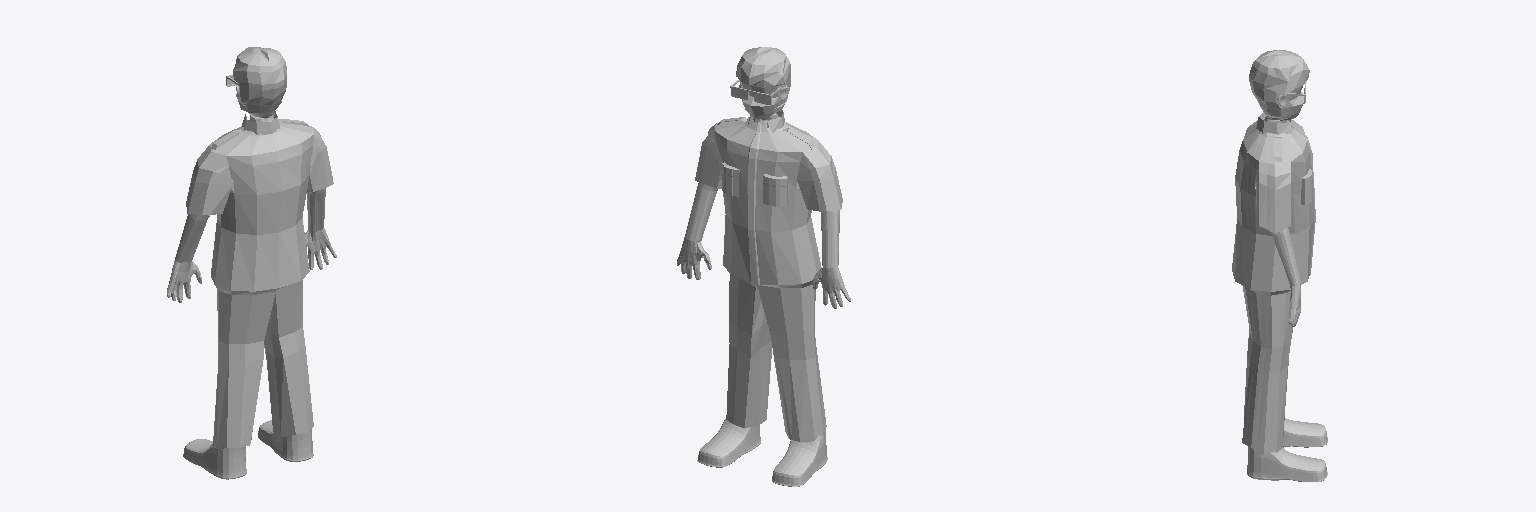
Rendered from guruwith hand.obj.
The picture shows the model from 3 angles: view 1: azimuth 30°, elevation 25°; view 2: azimuth 150°, elevation 25°; view 3: azimuth 270°, elevation 25°; orthographic projection.
Parts seen in each view (by area): view 1: Cube.001_Cube.003, Cube.002, Cube.003_Cube.004; view 2: Cube.001_Cube.003, Cube.002, Cube.003_Cube.004, Plane.002_Plane.003; view 3: Cube.001_Cube.003, Cube.003_Cube.004, Cube.002.
Boxes of the visible parts, x1,y1,x2,y2 form: Cube.001_Cube.003: [167, 47, 336, 448]; Cube.002: [183, 439, 246, 479]; Cube.003_Cube.004: [258, 420, 313, 461]; Cube.001_Cube.003: [677, 47, 850, 441]; Cube.002: [772, 427, 827, 486]; Cube.003_Cube.004: [697, 419, 760, 467]; Plane.002_Plane.003: [763, 174, 787, 206]; Cube.001_Cube.003: [1232, 50, 1315, 454]; Cube.003_Cube.004: [1247, 446, 1327, 481]; Cube.002: [1283, 418, 1327, 447].
Size of the model in its own units: 1.7 by 3.88 by 0.8283.